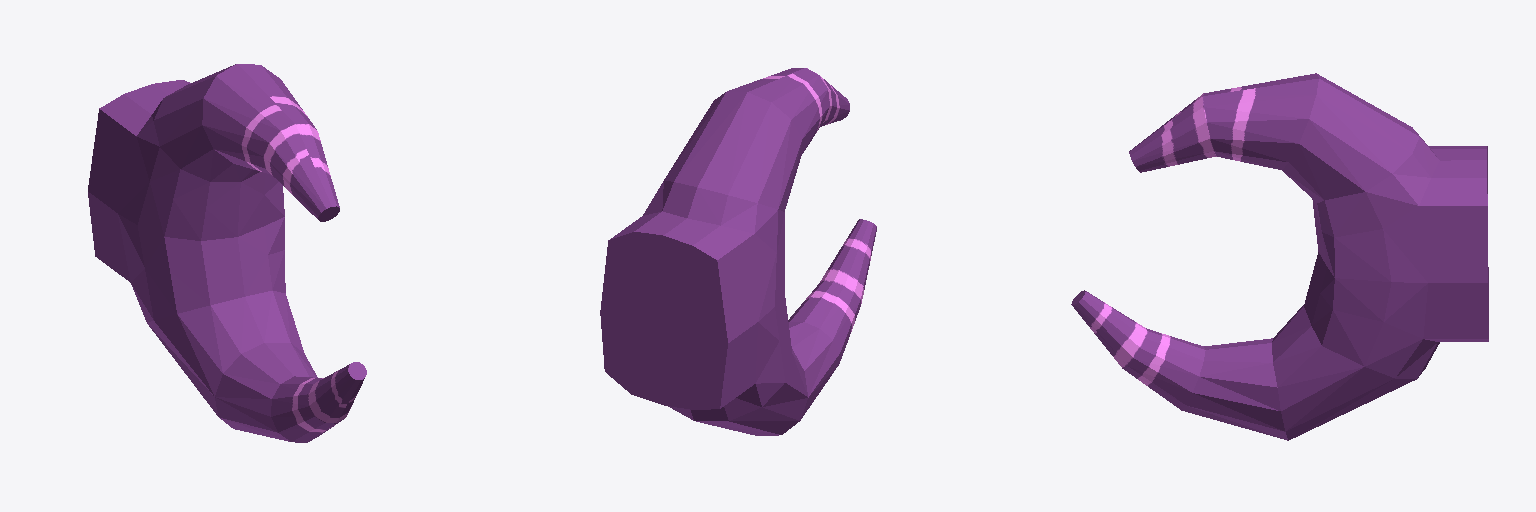
3 views of the same model, side by side, from view 1: azimuth 30°, elevation 25°; view 2: azimuth 150°, elevation 25°; view 3: azimuth 270°, elevation 25° (orthographic).
Visible parts, largest first — view 1: Torus.002; view 2: Torus.002; view 3: Torus.002.
Boxes of the visible parts, <box> form: Torus.002: <box>88,64,366,442</box>; Torus.002: <box>600,68,876,435</box>; Torus.002: <box>1071,73,1488,440</box>.
Size of the model in its own units: 3.19 by 8.45 by 8.98.
1 materials, 1 textured.